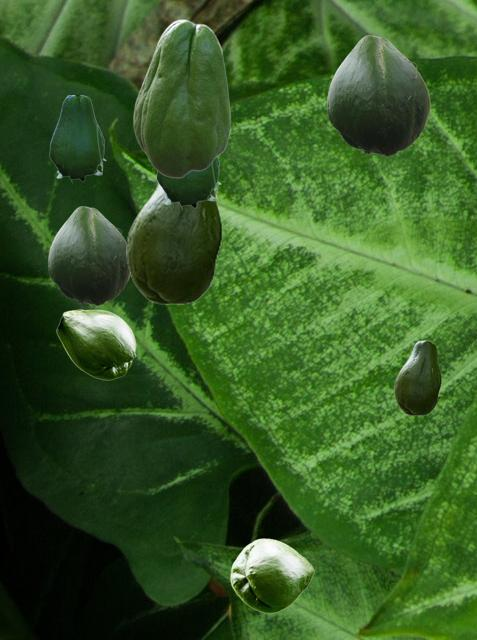sayote: (133, 19, 230, 177), (327, 35, 429, 156), (126, 181, 221, 303), (48, 206, 129, 305), (230, 538, 313, 612), (56, 309, 135, 379), (49, 95, 105, 182), (394, 340, 440, 414), (156, 157, 220, 209)
